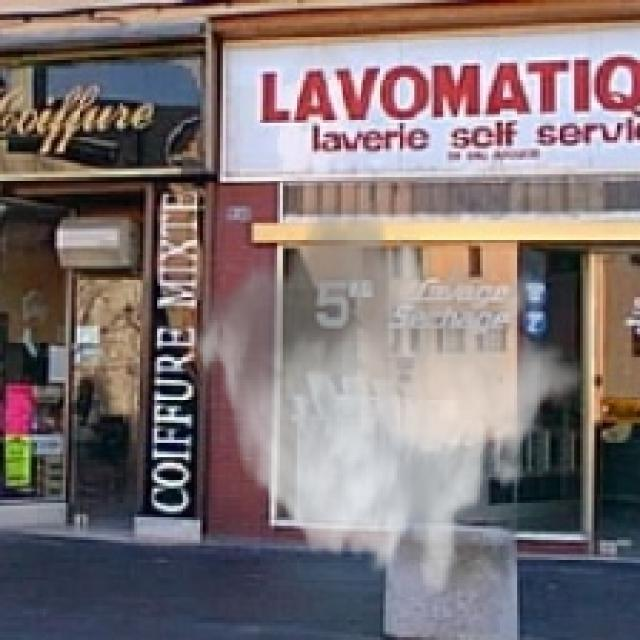smoke: (191, 194, 583, 603)
